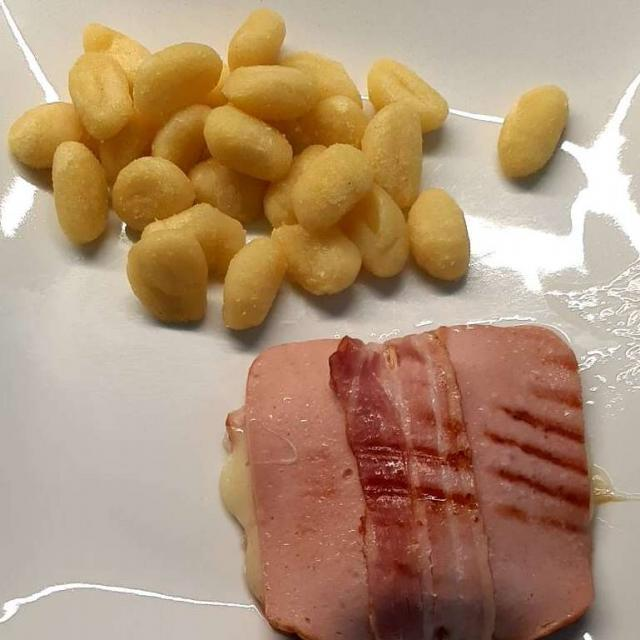bacon: (340, 329, 500, 638)
cheese: (210, 418, 271, 626)
